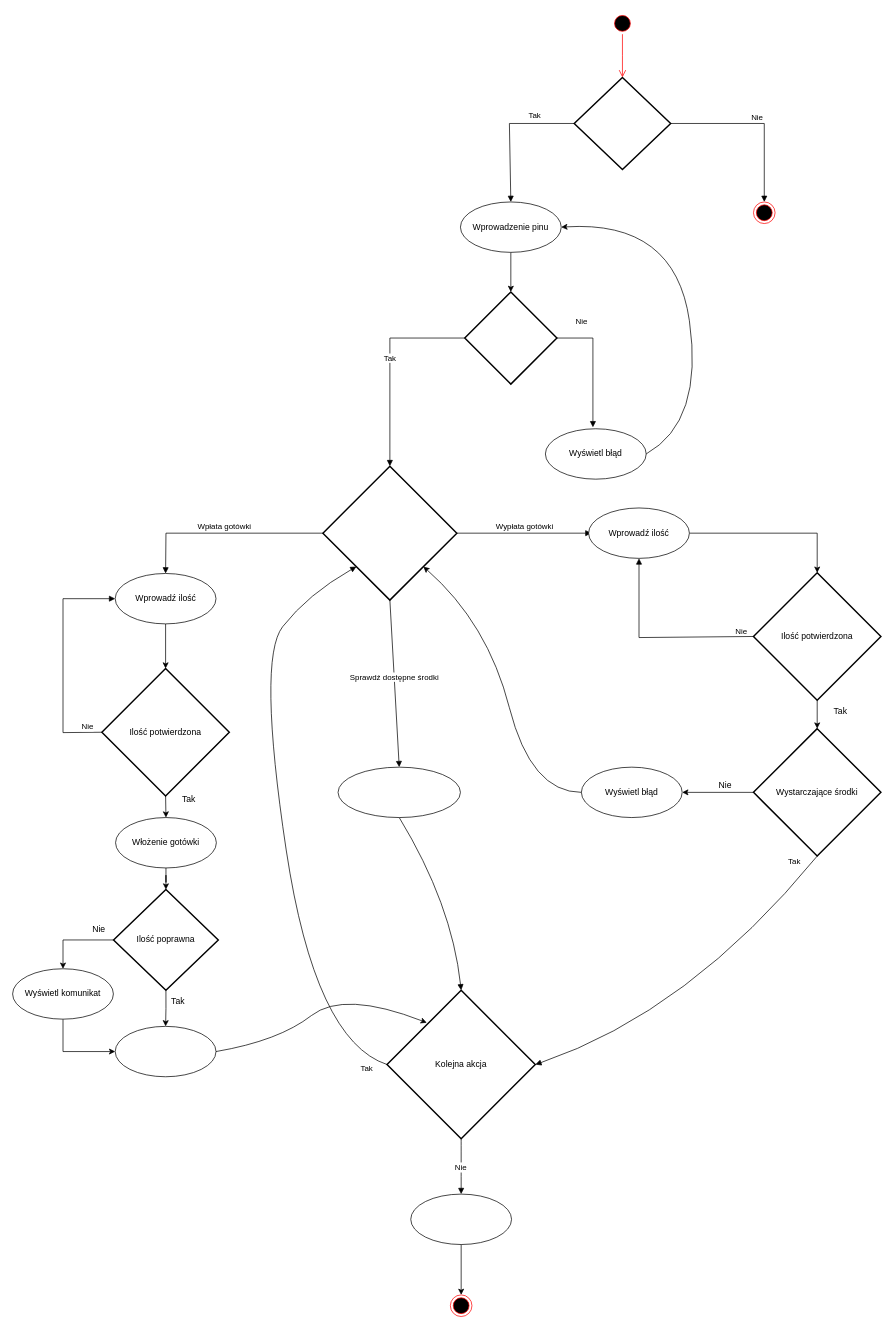
The diagram is 894 pixels wide and 1329 high, and some of its shapes have lost their labels. The centre of each missing label's shape, as x and y in pixels:
PIN poprawny: (510,337)
Wpłacenie gotówki: (165,1051)
Wybierz akcję: (389,532)
Wydaj kartę: (461,1219)
Wyświetl dostępne środki: (398,792)
Włożona karta: (622,123)
